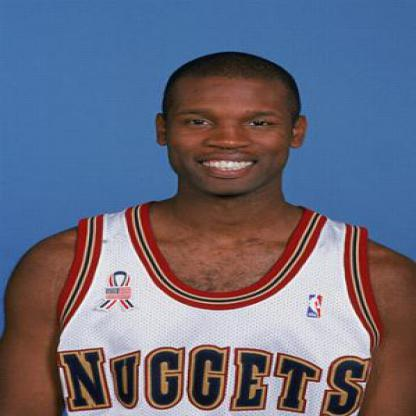face: (165, 53, 298, 197)
